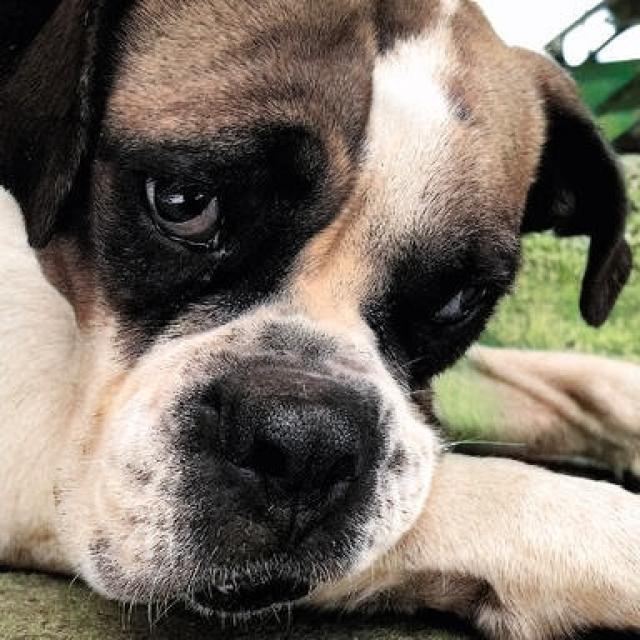sad: (1, 0, 640, 583)
